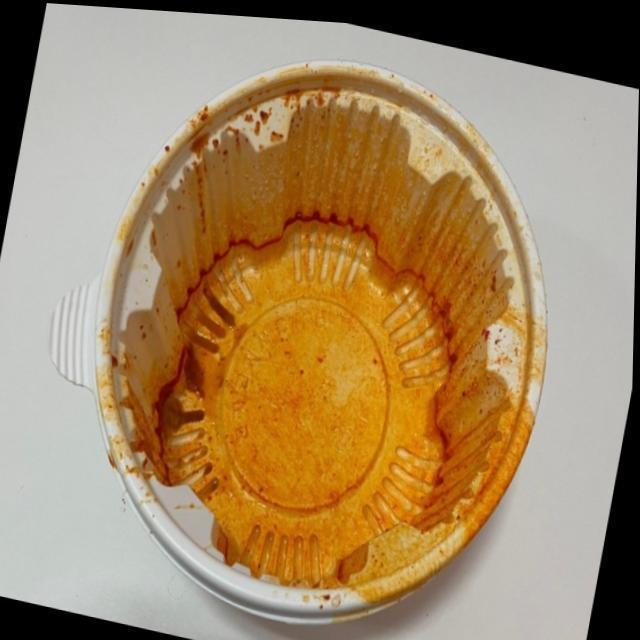disposable: (56, 56, 558, 640)
